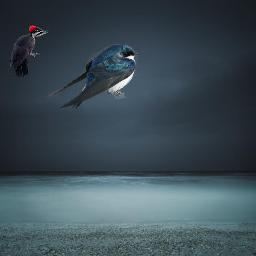Swallow: (47, 44, 138, 110)
Woodpecker: (8, 25, 52, 77)
